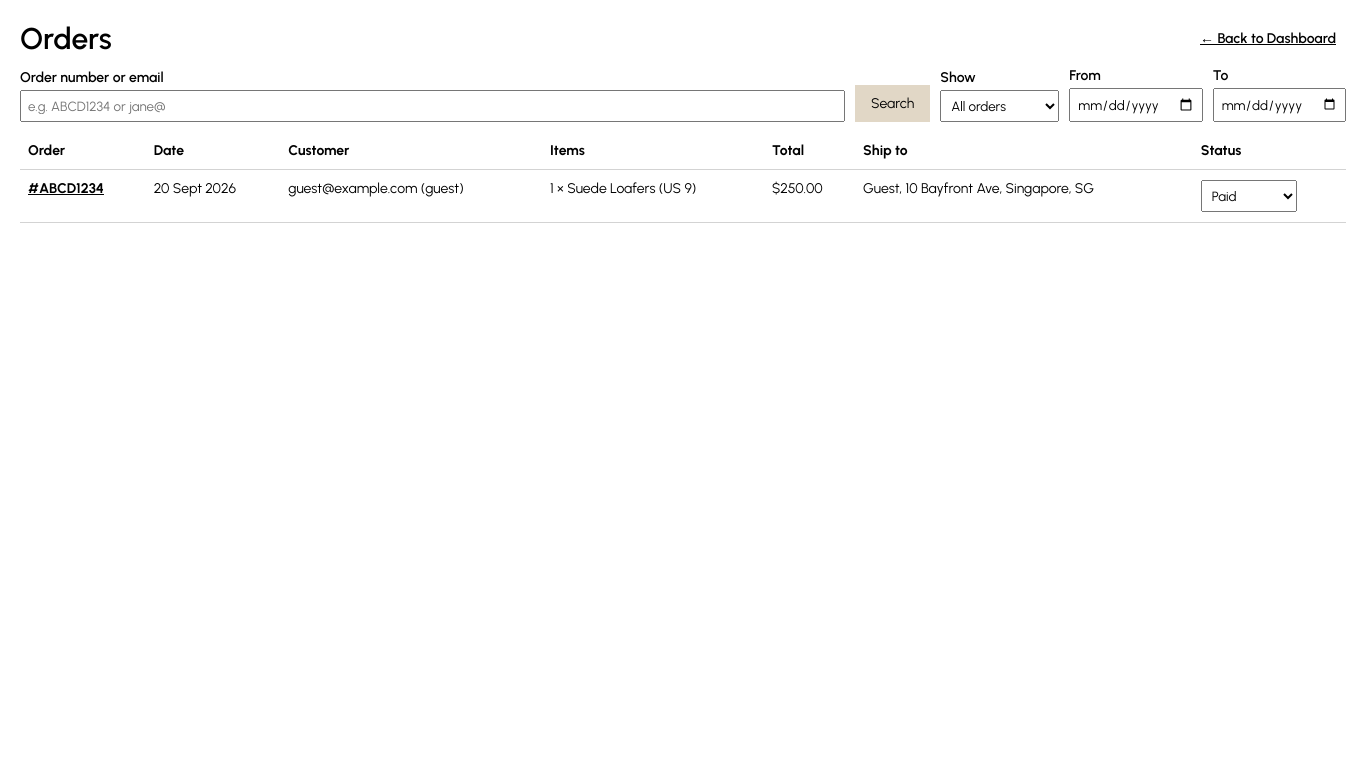
Test: AdminOrders › shipping › goes back without changing anything
The width and height of the screenshot is (1366, 768).
Step 1. Select "Shipped" in the dropdown named "Status for order ABCD1234" → point(1249, 196), box [1201, 180, 1297, 212]
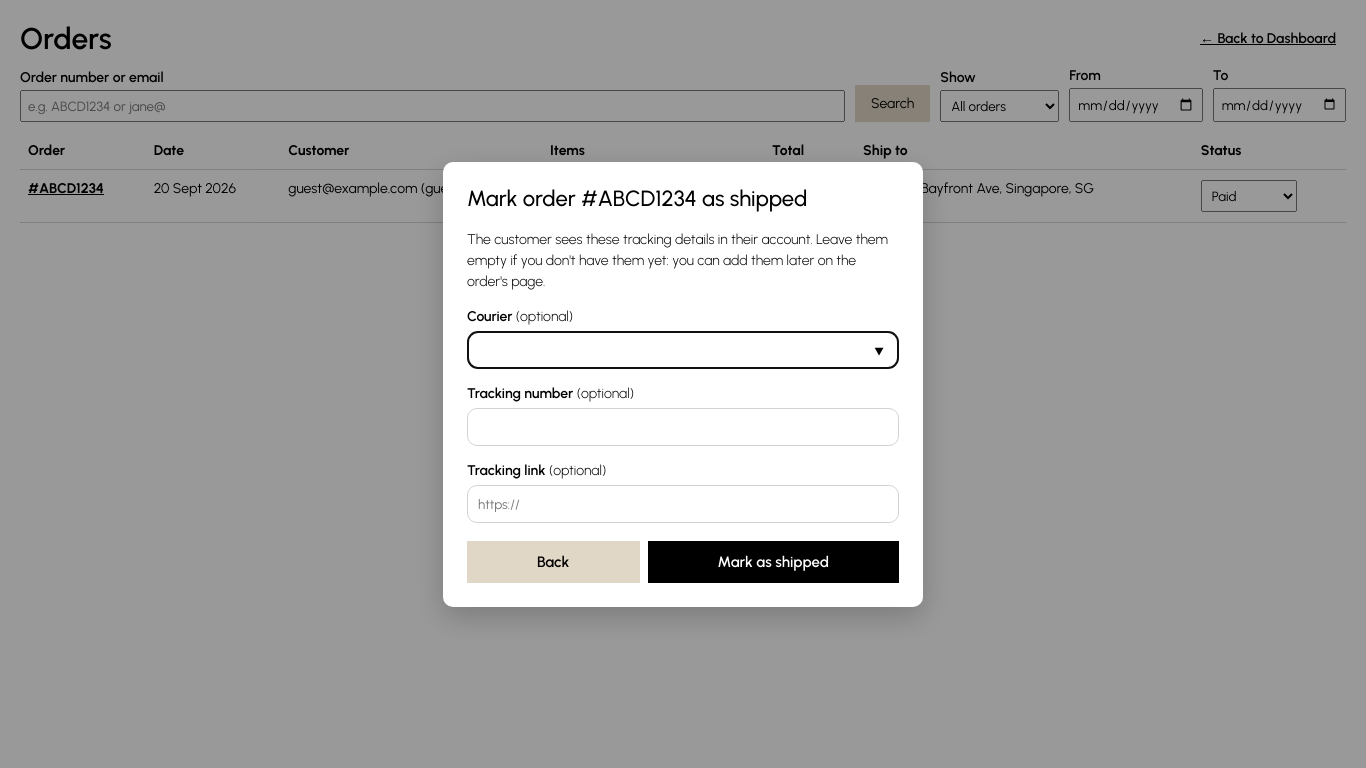
Step 2. Click the button "Back" → point(553, 562), box [467, 540, 640, 582]
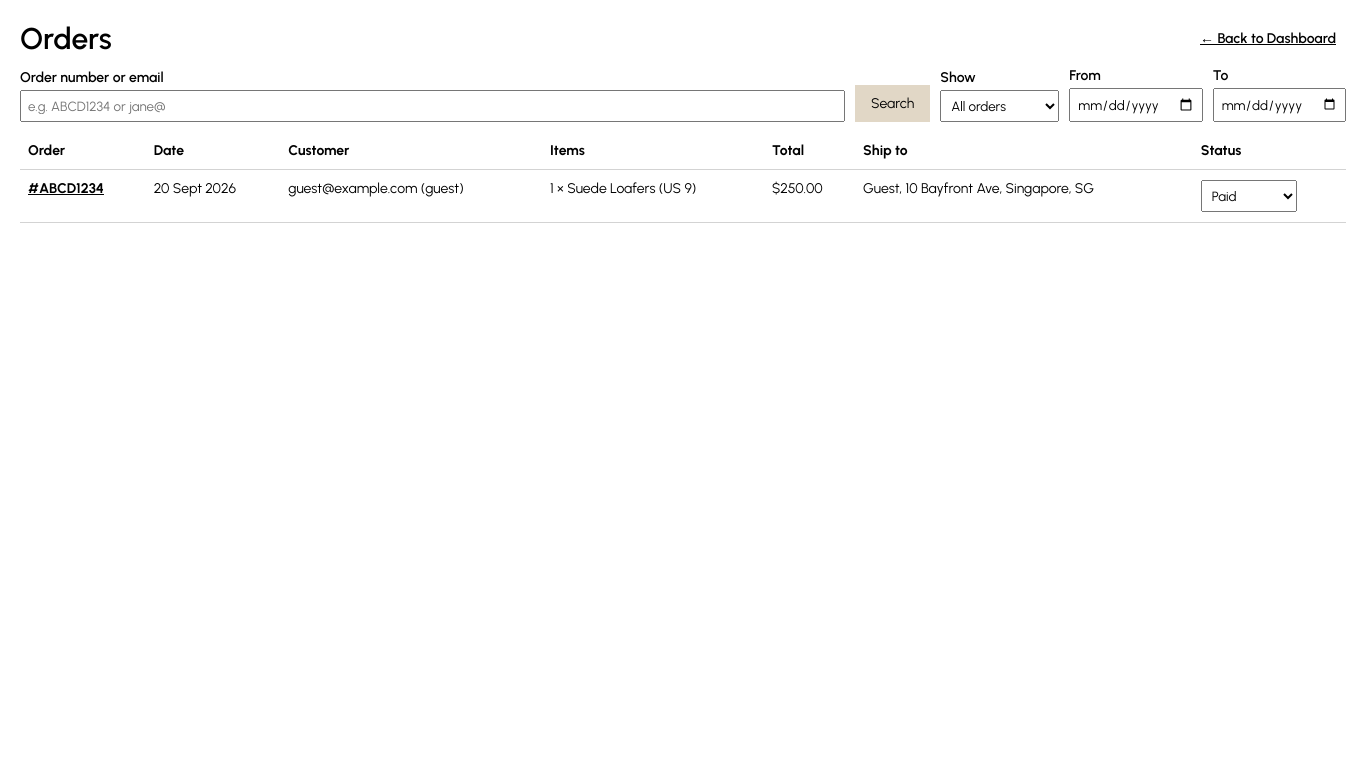
Check: the dialog is gone
